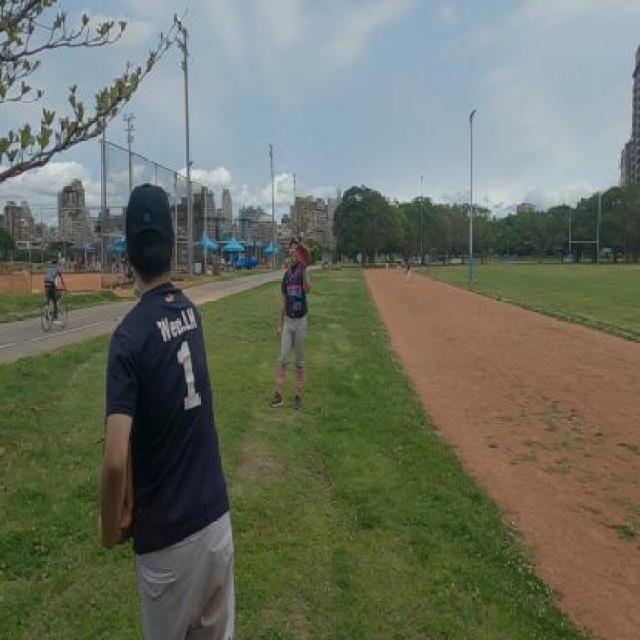baseball: (299, 232, 304, 239)
